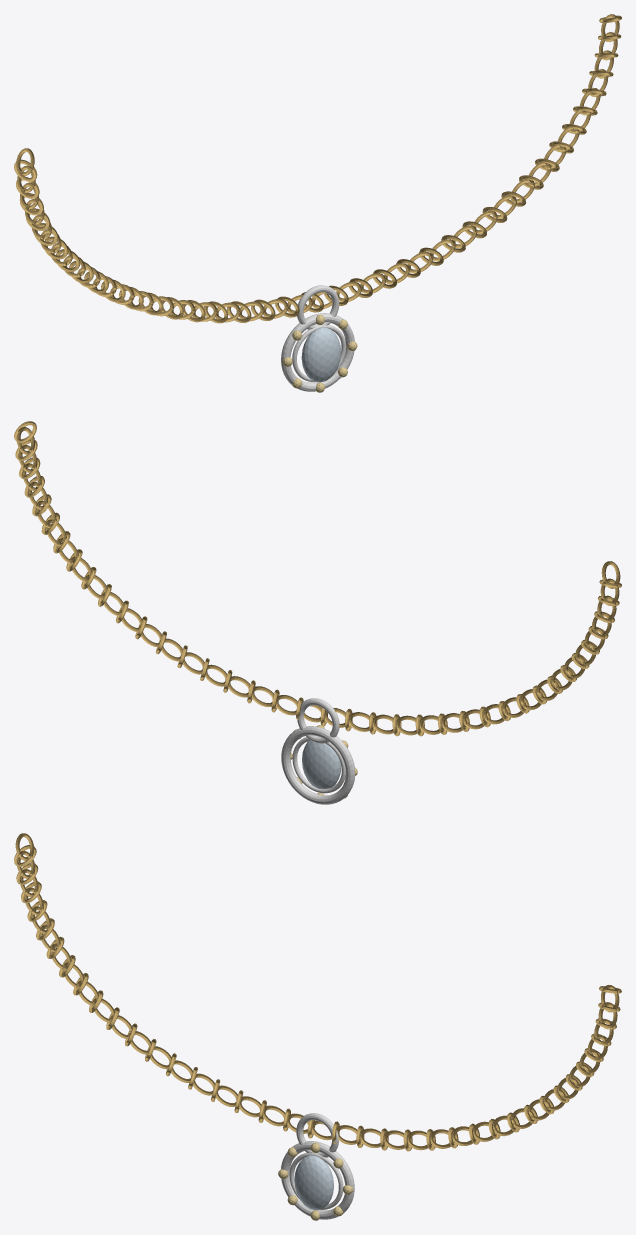
The model's file is necklace.glb.
The picture shows the model from 3 angles, top to bottom: view 1: azimuth 30°, elevation 25°; view 2: azimuth 150°, elevation 25°; view 3: azimuth 330°, elevation 25°; orthographic projection.
Parts seen in each view (by area): view 1: necklace_part_079, necklace_part_077, necklace_part_076, necklace_part_078; view 2: necklace_part_077, necklace_part_079, necklace_part_076, necklace_part_078; view 3: necklace_part_079, necklace_part_077, necklace_part_076, necklace_part_078.
Boxes of the visible parts, <box> form: necklace_part_079: <box>301,327,341,382</box>; necklace_part_077: <box>281,313,354,391</box>; necklace_part_076: <box>297,285,339,329</box>; necklace_part_078: <box>292,325,346,381</box>; necklace_part_077: <box>281,726,354,804</box>; necklace_part_079: <box>302,740,341,789</box>; necklace_part_076: <box>297,698,339,743</box>; necklace_part_078: <box>292,737,345,793</box>; necklace_part_079: <box>294,1155,333,1210</box>; necklace_part_077: <box>281,1141,354,1219</box>; necklace_part_076: <box>296,1113,338,1157</box>; necklace_part_078: <box>289,1153,343,1209</box>.
Bounding box in the file's own units: 3.55 × 1.76 × 0.1723.
